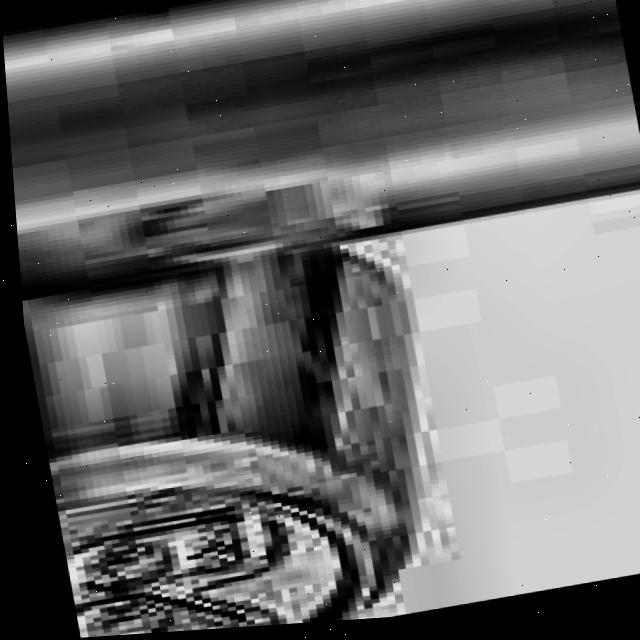metal: (14, 212, 489, 640), (0, 0, 640, 308)
